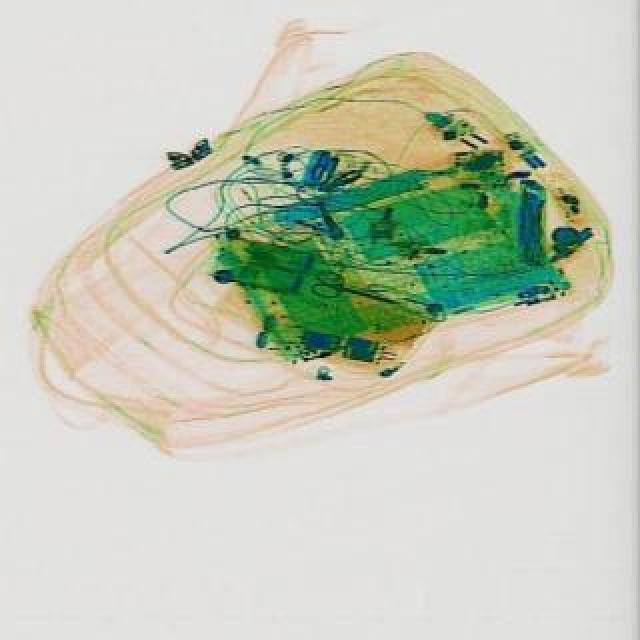pliers: (312, 270, 406, 320)
